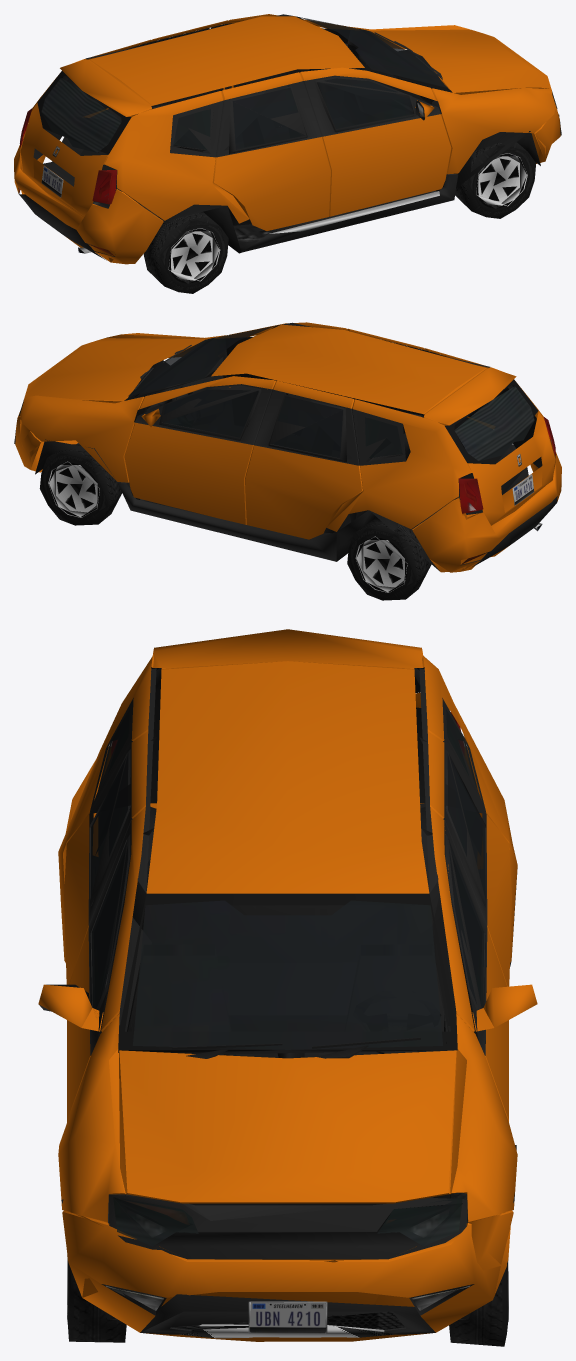
The model's file is v_urban10_lod.glb.
The picture shows the model from 3 angles, top to bottom: view 1: azimuth 30°, elevation 25°; view 2: azimuth 150°, elevation 25°; view 3: azimuth 270°, elevation 25°; orthographic projection. The views are drawn at different scales.
Visible parts, largest first — view 1: Urban10_body_Urban10_bodymat_0, Urban10_Bottom_UCB_BOTTOM_LT_0, Urban10_Interior_UCB_Interiors_2_0, Urban10_Bumper_Rear_Urban10_bodymat_0, Urban10_WheelStock_RR_RB1c_Tire_1k_0, Urban10_WheelStock_FR_RB1c_Tire_1k_0, Urban10_Body_Glass_UCB_Lights_and_Glass_Transperent_0, Urban10_Glass_Rear_UCB_Lights_and_Glass_Transperent_0, Urban10_Glass_Passenger_UCB_Lights_and_Glass_Transperent_0, Urban10_Windshield_UCB_Lights_and_Glass_Transperent_0, Urban10_Bumper_Rear_Inner_UCB_BOTTOM_LT_0, Urban10_Taillights_Glass_UCB_Lights_and_Glass_Transperent_0 (+2 smaller); view 2: Urban10_body_Urban10_bodymat_0, Urban10_Bottom_UCB_BOTTOM_LT_0, Urban10_Interior_UCB_Interiors_2_0, Urban10_Bumper_Rear_Urban10_bodymat_0, Urban10_WheelStock_RL_RB1c_Tire_1k_0, Urban10_WheelStock_FL_RB1c_Tire_1k_0, Urban10_Body_Glass_UCB_Lights_and_Glass_Transperent_0, Urban10_Glass_Rear_UCB_Lights_and_Glass_Transperent_0, Urban10_Glass_Driver_UCB_Lights_and_Glass_Transperent_0, Urban10_Windshield_UCB_Lights_and_Glass_Transperent_0, Urban10_Bumper_Rear_Inner_UCB_BOTTOM_LT_0, Urban10_Bumper_Front_Urban10_bodymat_0 (+2 smaller); view 3: Urban10_body_Urban10_bodymat_0, Urban10_Bottom_UCB_BOTTOM_LT_0, Urban10_Interior_UCB_Interiors_2_0, Urban10_Windshield_UCB_Lights_and_Glass_Transperent_0, Urban10_Bumper_Front_Urban10_bodymat_0, Urban10_Bumper_Front_Inner_UCB_BOTTOM_LT_0, Urban10_Body_Glass_UCB_Lights_and_Glass_Transperent_0, Urban10_Headlight_Glass_UCB_Lights_and_Glass_Transperent_0, Urban10_Glass_Passenger_UCB_Lights_and_Glass_Transperent_0, Urban10_Numberplate_Front_Numberplates_Misk_U_0, Urban10_WheelStock_FL_RB1c_Tire_1k_0, Urban10_WheelStock_FR_RB1c_Tire_1k_0 (+2 smaller).
Part boxes in pixels (x1=…): Urban10_body_Urban10_bodymat_0: x1=20, y1=14, x2=555, y2=261; Urban10_Bottom_UCB_BOTTOM_LT_0: x1=20, y1=14, x2=557, y2=253; Urban10_Interior_UCB_Interiors_2_0: x1=33, y1=28, x2=447, y2=228; Urban10_Bumper_Rear_Urban10_bodymat_0: x1=14, y1=142, x2=163, y2=264; Urban10_WheelStock_RR_RB1c_Tire_1k_0: x1=143, y1=212, x2=228, y2=293; Urban10_WheelStock_FR_RB1c_Tire_1k_0: x1=455, y1=142, x2=536, y2=218; Urban10_Body_Glass_UCB_Lights_and_Glass_Transperent_0: x1=173, y1=87, x2=305, y2=151; Urban10_Glass_Rear_UCB_Lights_and_Glass_Transperent_0: x1=41, y1=78, x2=121, y2=152; Urban10_Glass_Passenger_UCB_Lights_and_Glass_Transperent_0: x1=317, y1=78, x2=413, y2=130; Urban10_Windshield_UCB_Lights_and_Glass_Transperent_0: x1=301, y1=17, x2=447, y2=87; Urban10_Bumper_Rear_Inner_UCB_BOTTOM_LT_0: x1=18, y1=188, x2=115, y2=260; Urban10_Taillights_Glass_UCB_Lights_and_Glass_Transperent_0: x1=19, y1=108, x2=116, y2=204; Urban10_body_Urban10_bodymat_0: x1=19, y1=322, x2=555, y2=572; Urban10_Bottom_UCB_BOTTOM_LT_0: x1=19, y1=322, x2=555, y2=571; Urban10_Interior_UCB_Interiors_2_0: x1=128, y1=337, x2=542, y2=536; Urban10_Bumper_Rear_Urban10_bodymat_0: x1=412, y1=452, x2=561, y2=572; Urban10_WheelStock_RL_RB1c_Tire_1k_0: x1=347, y1=519, x2=431, y2=600; Urban10_WheelStock_FL_RB1c_Tire_1k_0: x1=39, y1=444, x2=121, y2=525; Urban10_Body_Glass_UCB_Lights_and_Glass_Transperent_0: x1=271, y1=396, x2=402, y2=460; Urban10_Glass_Rear_UCB_Lights_and_Glass_Transperent_0: x1=454, y1=386, x2=534, y2=461; Urban10_Glass_Driver_UCB_Lights_and_Glass_Transperent_0: x1=161, y1=389, x2=258, y2=439; Urban10_Windshield_UCB_Lights_and_Glass_Transperent_0: x1=128, y1=326, x2=274, y2=396; Urban10_Bumper_Rear_Inner_UCB_BOTTOM_LT_0: x1=460, y1=496, x2=557, y2=566; Urban10_Bumper_Front_Urban10_bodymat_0: x1=15, y1=380, x2=140, y2=472; Urban10_body_Urban10_bodymat_0: x1=38, y1=629, x2=537, y2=1341; Urban10_Bottom_UCB_BOTTOM_LT_0: x1=39, y1=667, x2=517, y2=1319; Urban10_Interior_UCB_Interiors_2_0: x1=94, y1=667, x2=482, y2=1204; Urban10_Windshield_UCB_Lights_and_Glass_Transperent_0: x1=133, y1=900, x2=442, y2=1049; Urban10_Bumper_Front_Urban10_bodymat_0: x1=62, y1=1210, x2=513, y2=1341; Urban10_Bumper_Front_Inner_UCB_BOTTOM_LT_0: x1=101, y1=1284, x2=474, y2=1338; Urban10_Body_Glass_UCB_Lights_and_Glass_Transperent_0: x1=91, y1=709, x2=484, y2=895; Urban10_Headlight_Glass_UCB_Lights_and_Glass_Transperent_0: x1=113, y1=1197, x2=462, y2=1245; Urban10_Glass_Passenger_UCB_Lights_and_Glass_Transperent_0: x1=90, y1=841, x2=127, y2=1008; Urban10_Numberplate_Front_Numberplates_Misk_U_0: x1=248, y1=1301, x2=327, y2=1333; Urban10_WheelStock_FL_RB1c_Tire_1k_0: x1=449, y1=1192, x2=508, y2=1346; Urban10_WheelStock_FR_RB1c_Tire_1k_0: x1=67, y1=1194, x2=126, y2=1342.
Size of the model in its own units: 4.27 by 1.49 by 1.88.
Materials: 8 (7 with a texture image).
